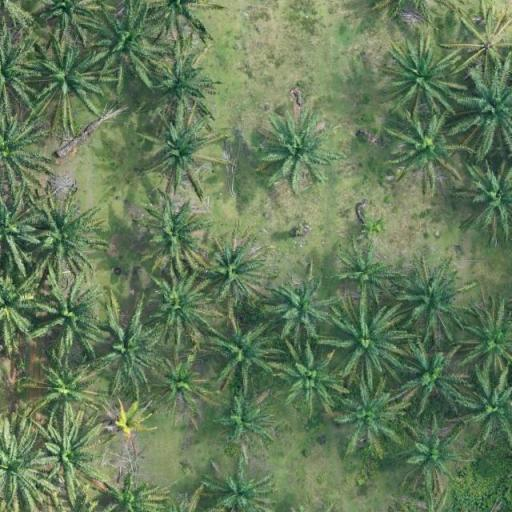Ganoderma: (471, 27, 508, 63), (114, 405, 150, 436)
